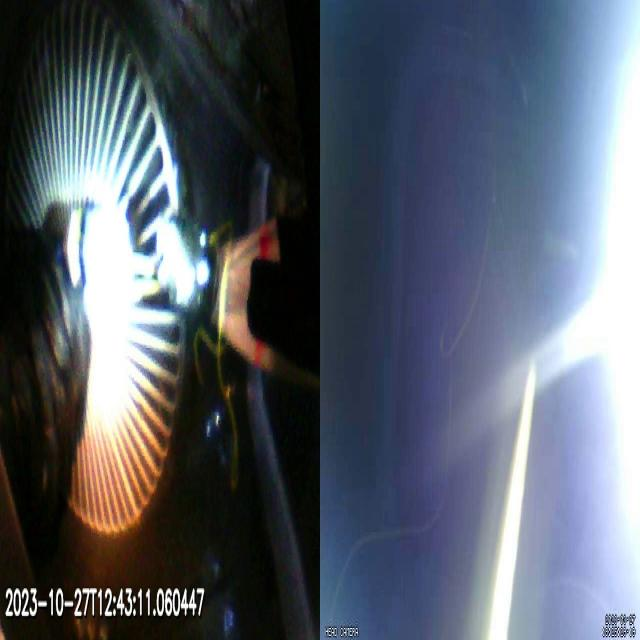head: (68, 201, 132, 291)
